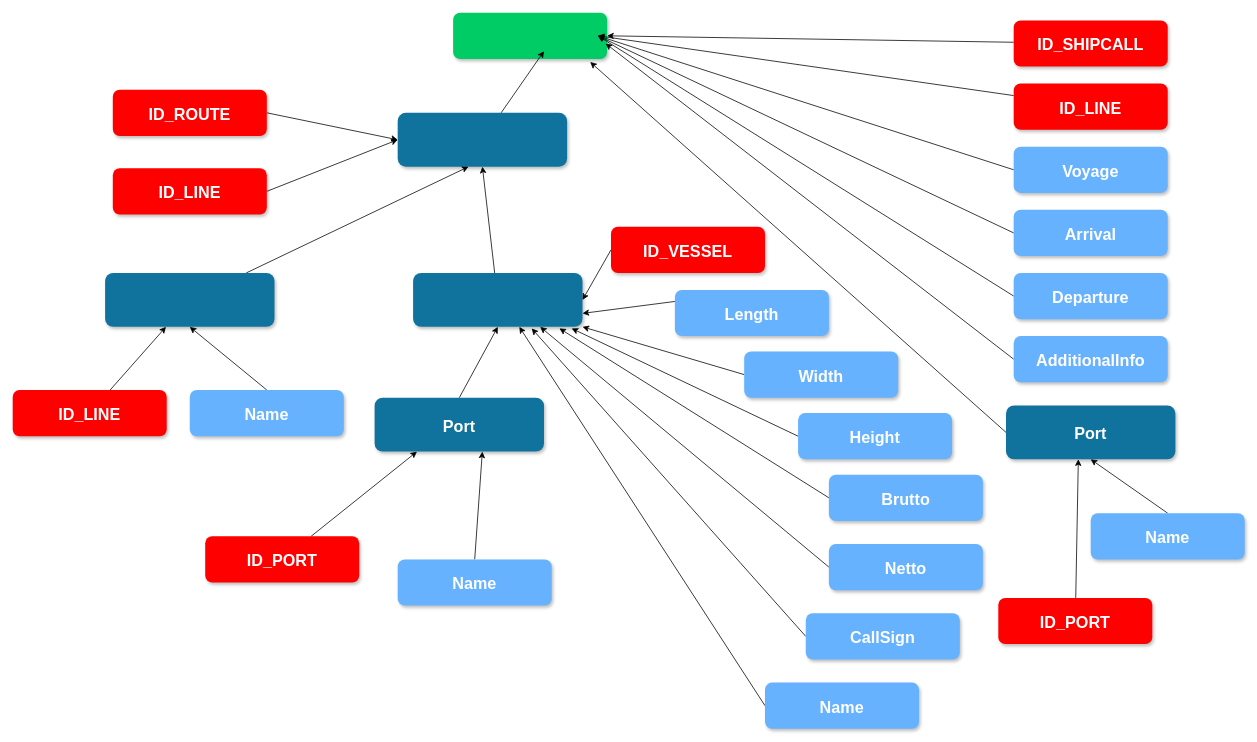
Some shapes in this 1257 by 742 pixel diagram are drawn without their labels. The shapes that lost their labels are listed below. From the top down, each one's centre as x and y in pixels, then its label:
At (x=530, y=36): "ShipCall".
At (x=482, y=140): "Route".
At (x=190, y=301): "Line".
At (x=498, y=301): "Vessel".
